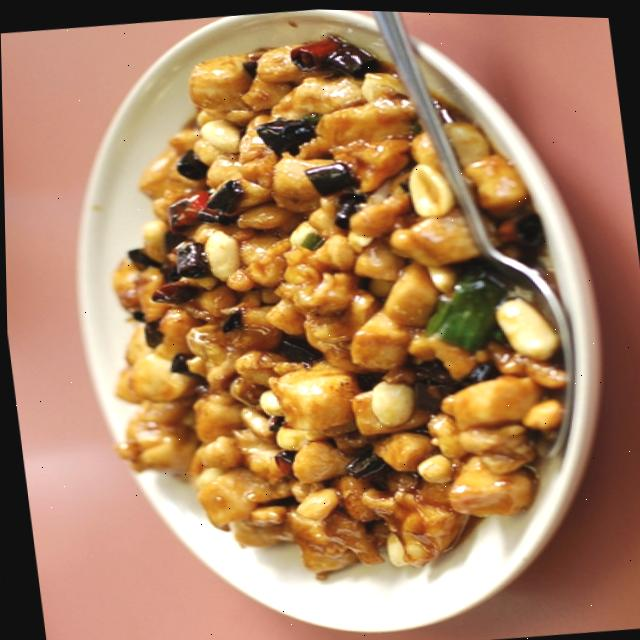鸡肉料理 含炸鸡: (17, 0, 624, 640)
